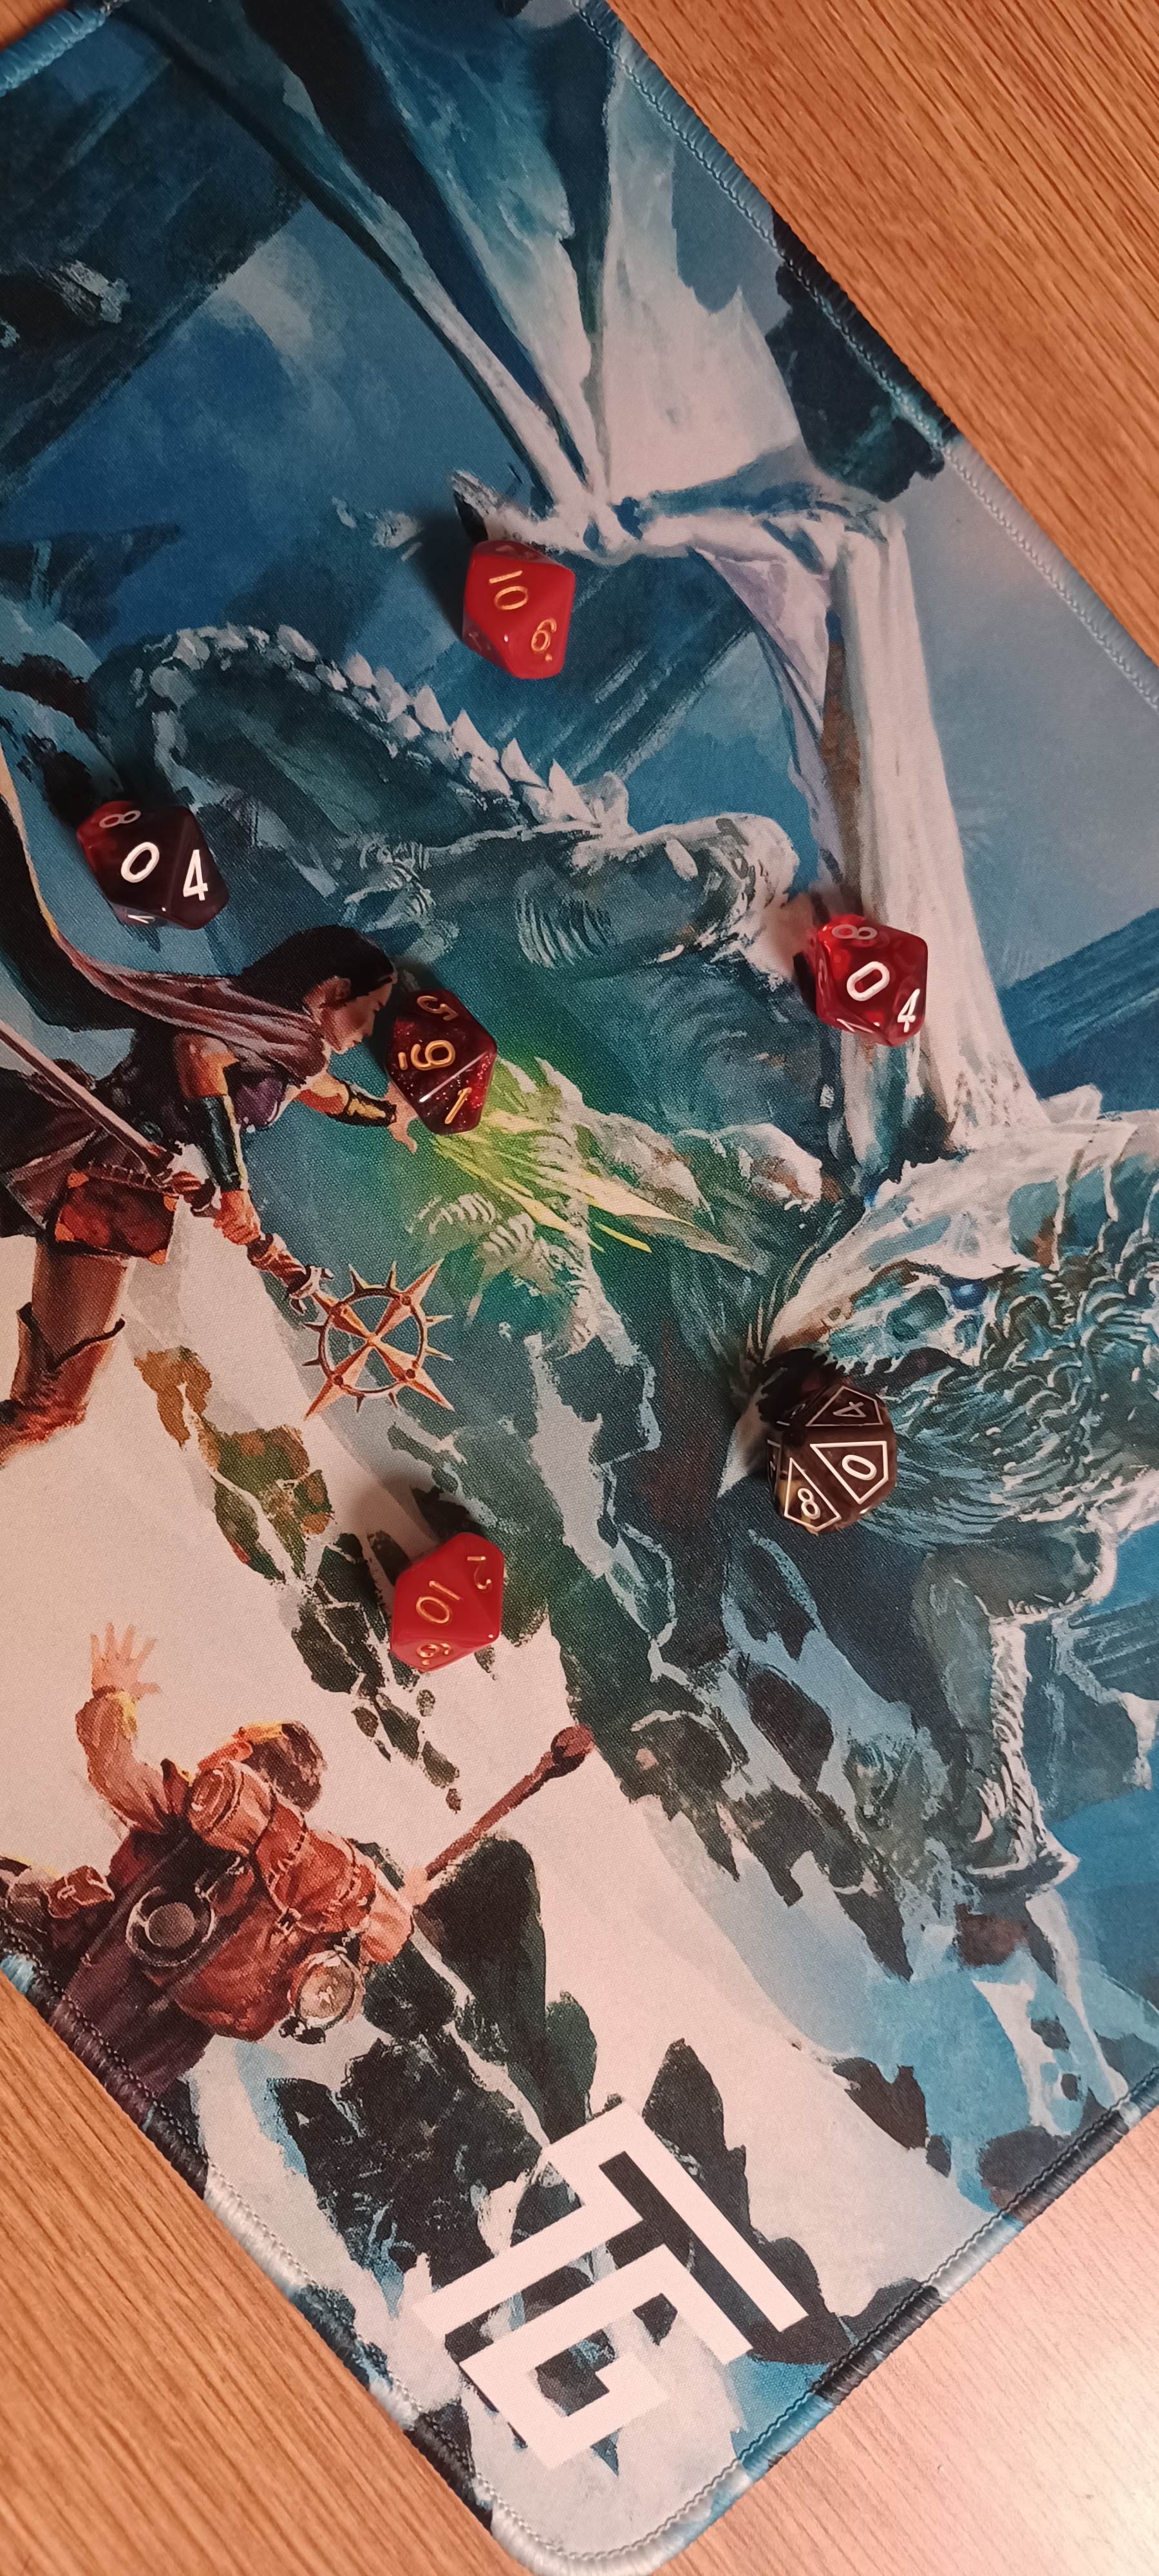nine: (328, 935, 555, 1153)
ten: (356, 1500, 561, 1710), (422, 504, 591, 700)
zero: (709, 1329, 964, 1587), (768, 859, 972, 1071), (43, 769, 268, 959)
